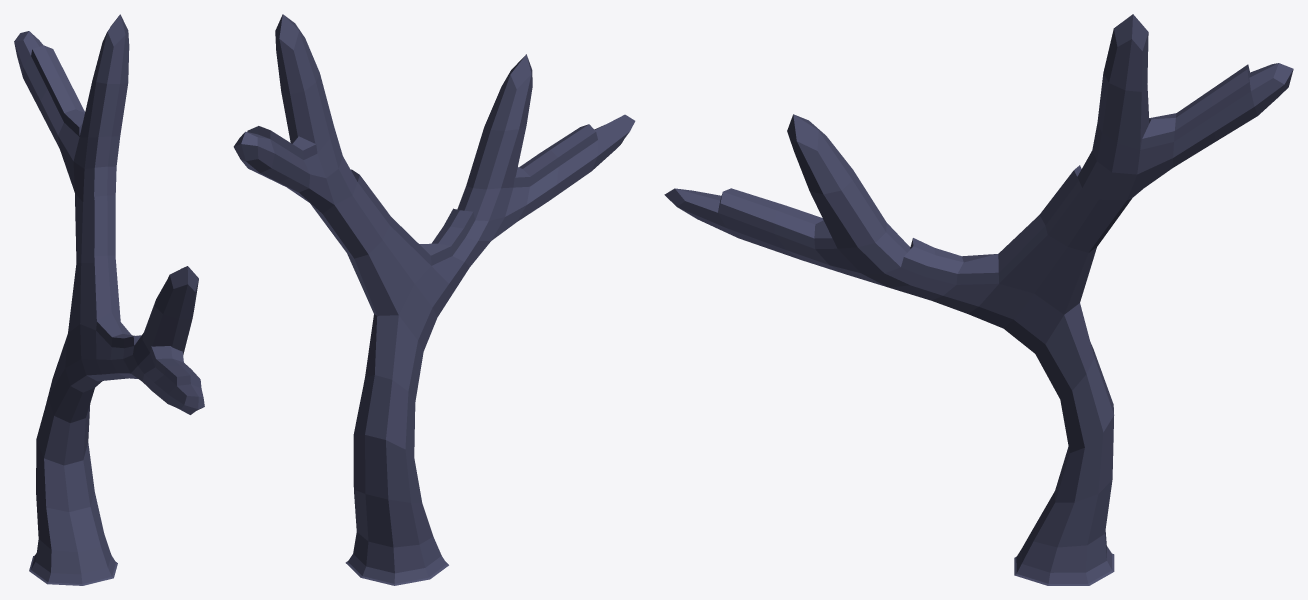
Rendered from Dead_tree_4.fbx.
3 renders of one model, left to right at view 1: azimuth 30°, elevation 25°; view 2: azimuth 150°, elevation 25°; view 3: azimuth 270°, elevation 25°, orthographic. The views are drawn at different scales.
Parts seen in each view (by area): view 1: Dead_tree_4; view 2: Dead_tree_4; view 3: Dead_tree_4.
Part boxes in pixels (x1,y1,x2,y2): Dead_tree_4: (14, 14, 204, 585); Dead_tree_4: (233, 14, 635, 585); Dead_tree_4: (664, 14, 1293, 585).
Bounding box in the file's own units: 3.75 × 13.45 × 12.91.
